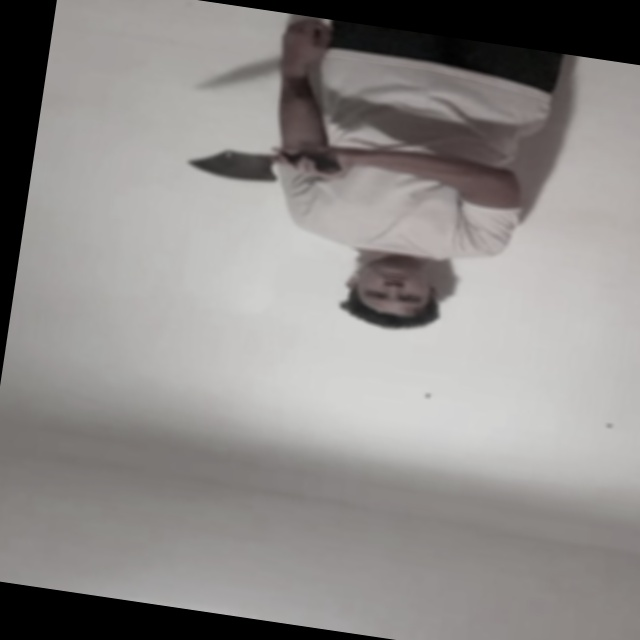Sharp-Object: (185, 142, 282, 186)
